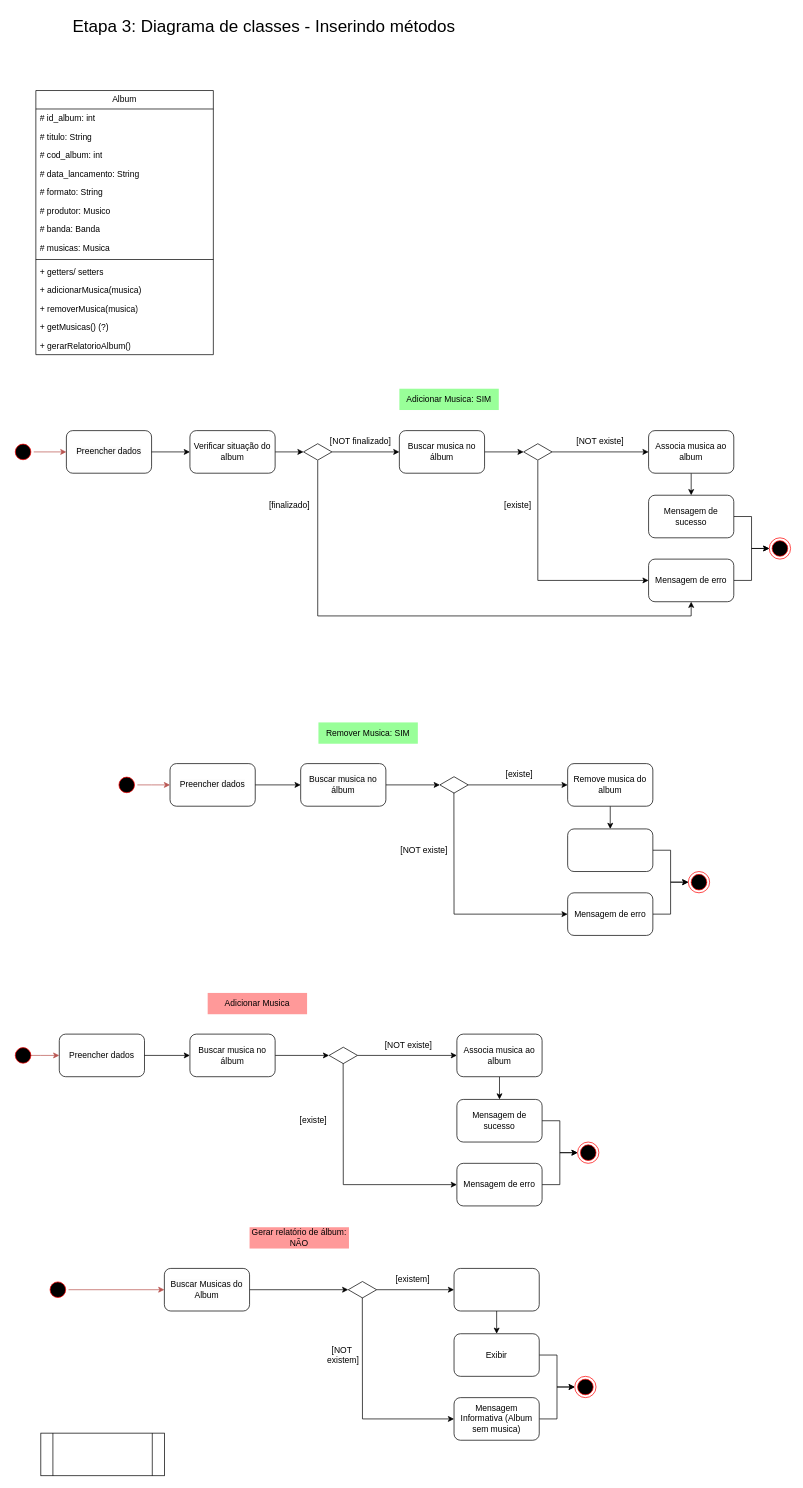
Image size: 803x1488. Some labels were removed from this diagram. Here are the shapes that lost their labels. From the top down, the box of each, then its label:
(567, 828, 653, 872): Musica removido com sucesso
(453, 1268, 539, 1311): Formatar relatório
(40, 1432, 164, 1476): adicionarInstrumento()
